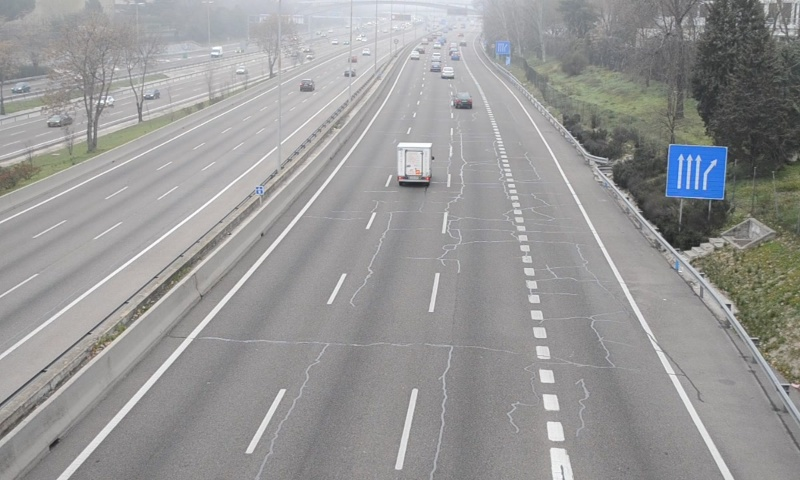car: (452, 90, 472, 109)
small-truck: (395, 141, 432, 182)
